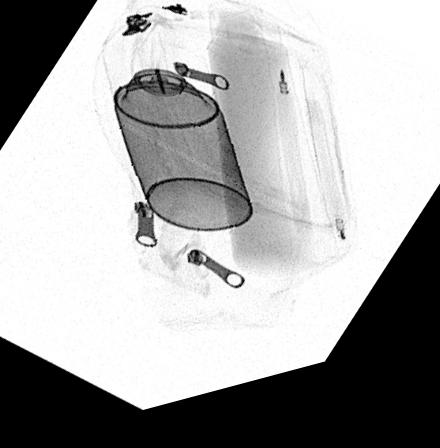Sprayer: (101, 41, 252, 243)
